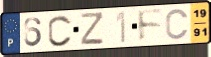1: (115, 10, 127, 45)
6: (23, 17, 43, 49)
C: (47, 14, 73, 48), (165, 8, 190, 41)
F: (136, 8, 165, 44)
Z: (80, 11, 104, 46)
